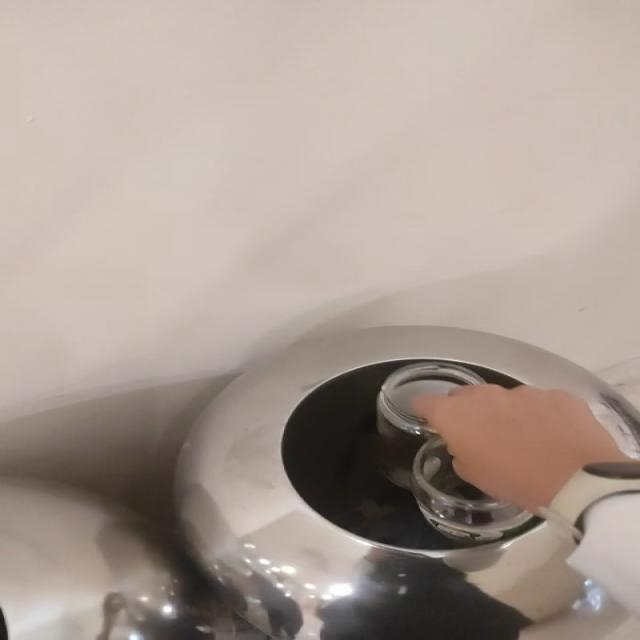glass: (379, 363, 533, 542)
